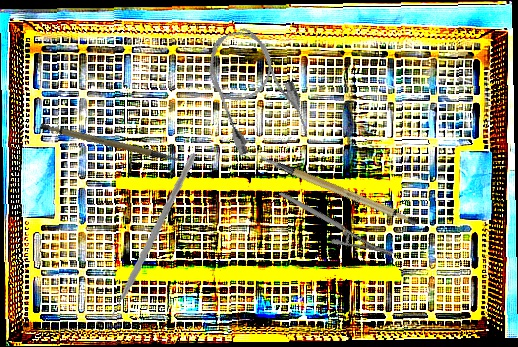Cannula: (196, 18, 314, 163)
Chopper: (82, 152, 209, 325)
Needle Holder: (278, 162, 395, 285)
Scalpel Handle: (259, 131, 420, 246), (39, 105, 182, 184)
